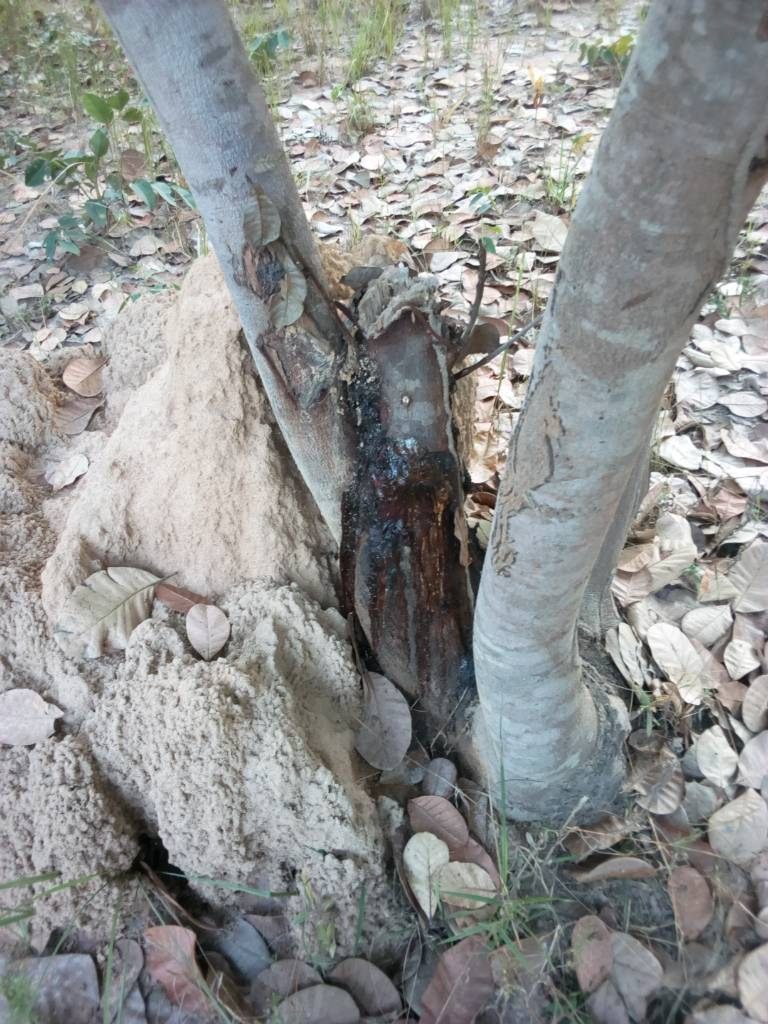Gommose: (333, 369, 485, 639)
